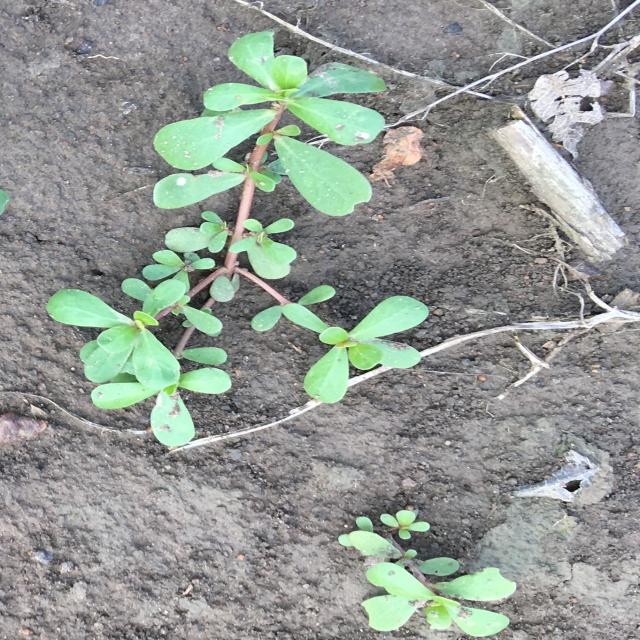Purslane: (46, 31, 431, 448), (338, 510, 517, 637)
